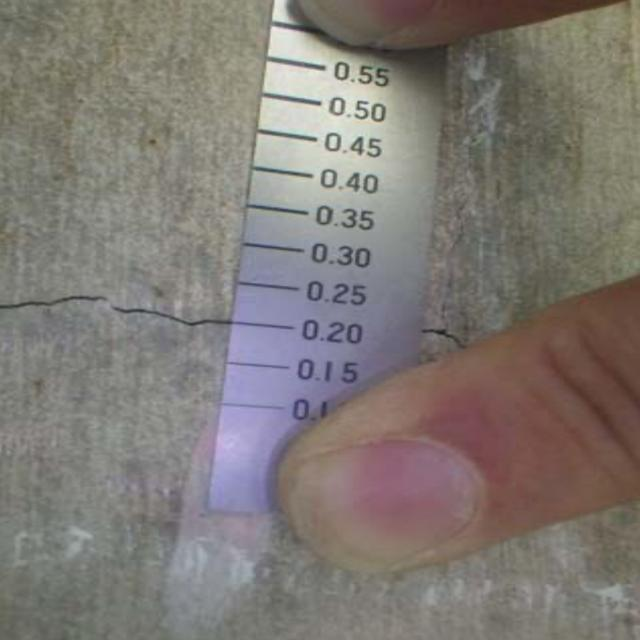crack: (3, 276, 236, 343), (422, 314, 478, 359)
